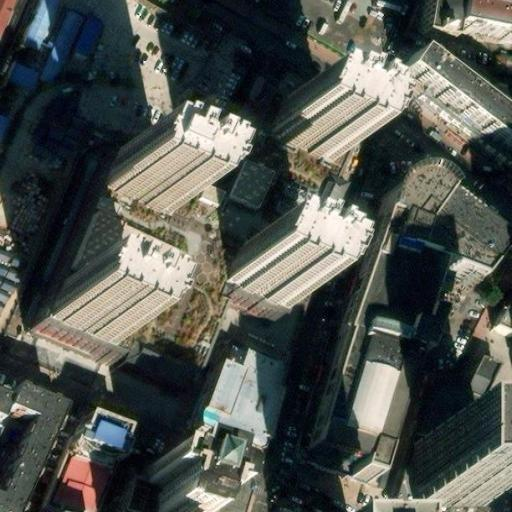building: (309, 246, 431, 480), (184, 310, 294, 442), (388, 61, 512, 174), (366, 177, 502, 276), (406, 397, 493, 505), (333, 347, 421, 453), (48, 193, 122, 303), (264, 188, 341, 276), (160, 179, 256, 248), (0, 407, 54, 512), (89, 165, 171, 230), (210, 267, 293, 331), (262, 139, 344, 203), (44, 323, 126, 387), (137, 457, 217, 512), (44, 446, 110, 512), (420, 451, 488, 512), (66, 405, 127, 461), (383, 312, 437, 366), (194, 470, 249, 512), (16, 0, 55, 52), (477, 366, 508, 408), (494, 299, 512, 337)
